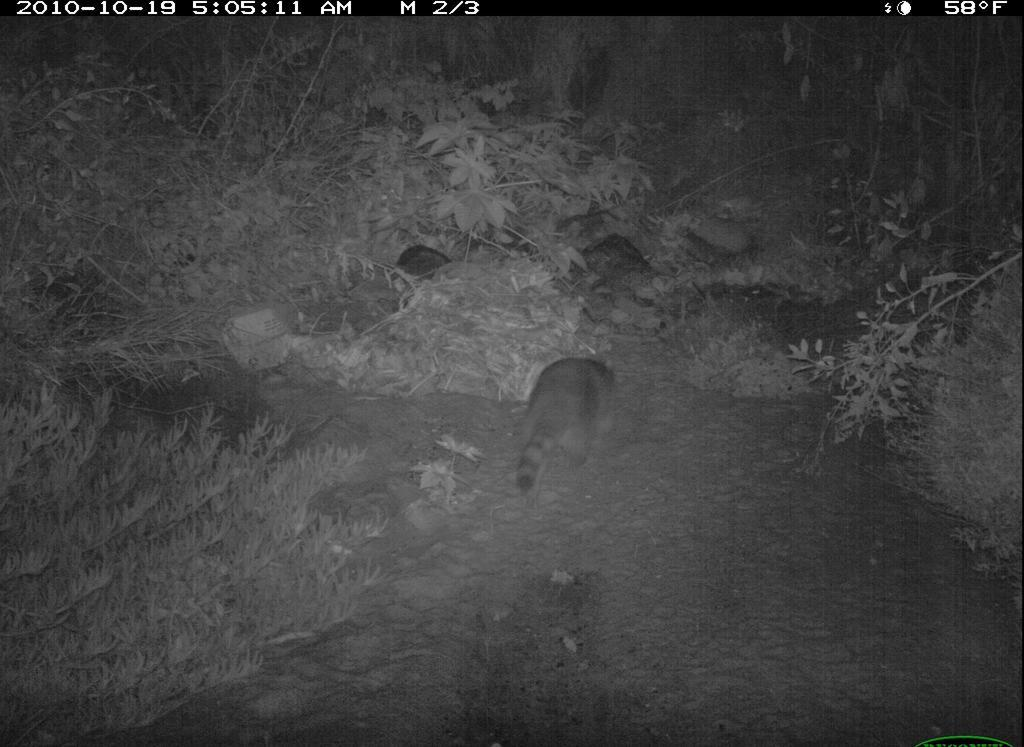raccoon: (500, 340, 639, 516)
